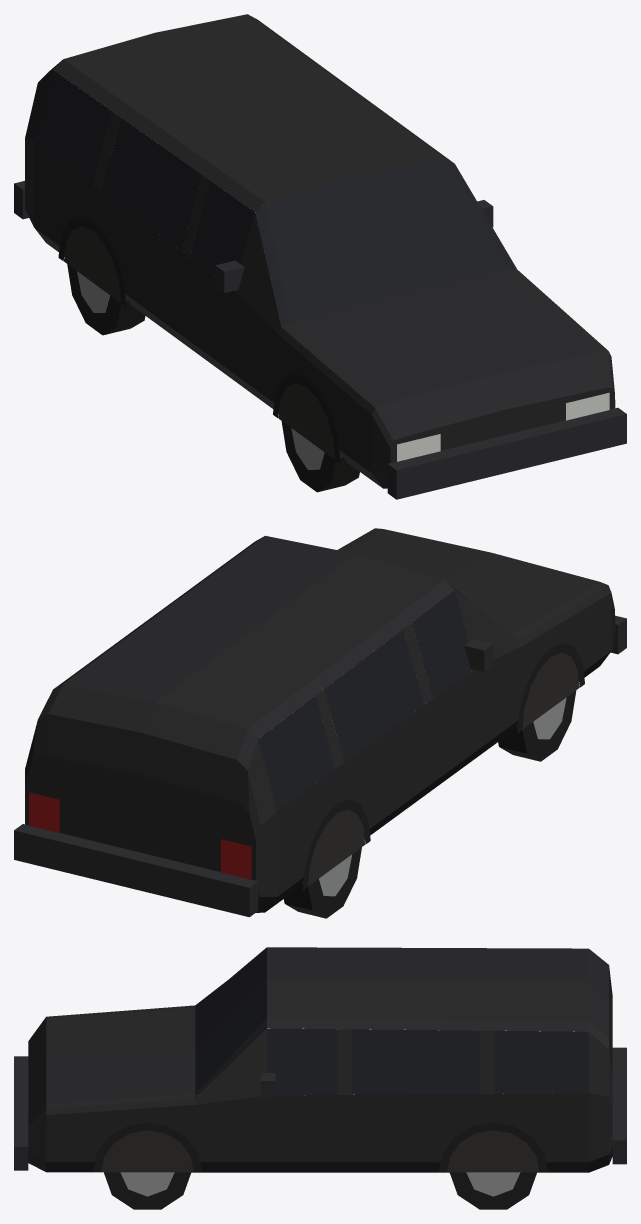
The model's file is town_suv_black 2.gltf.
3 views of the same model, one above another, from view 1: azimuth 30°, elevation 25°; view 2: azimuth 150°, elevation 25°; view 3: azimuth 270°, elevation 25° (orthographic). The views are drawn at different scales.
Visible parts, largest first — view 1: TownSuvBlack_Body, TownSuvBlack_Glass, TownSuvBlack_Bumpers, TownSuvBlack_Arches, TownSuvBlack_Tyres, TownSuvBlack_Headlights, TownSuvBlack_Rims, TownSuvBlack_Mirrors; view 2: TownSuvBlack_Body, TownSuvBlack_Glass, TownSuvBlack_Bumpers, TownSuvBlack_Arches, TownSuvBlack_Tyres, TownSuvBlack_Taillights, TownSuvBlack_Rims, TownSuvBlack_Mirrors; view 3: TownSuvBlack_Body, TownSuvBlack_Glass, TownSuvBlack_Arches, TownSuvBlack_Bumpers, TownSuvBlack_Tyres, TownSuvBlack_Rims, TownSuvBlack_Mirrors.
Part boxes in pixels (x1,y1,x2,y2): TownSuvBlack_Body: (25, 14, 615, 488); TownSuvBlack_Glass: (34, 70, 516, 326); TownSuvBlack_Bumpers: (14, 181, 626, 499); TownSuvBlack_Arches: (58, 216, 340, 463); TownSuvBlack_Tyres: (67, 264, 359, 492); TownSuvBlack_Headlights: (397, 392, 609, 461); TownSuvBlack_Rims: (77, 271, 324, 469); TownSuvBlack_Mirrors: (215, 200, 493, 293); TownSuvBlack_Body: (25, 528, 615, 912); TownSuvBlack_Glass: (258, 580, 473, 810); TownSuvBlack_Bumpers: (14, 615, 626, 917); TownSuvBlack_Arches: (302, 642, 584, 890); TownSuvBlack_Tyres: (283, 690, 576, 918); TownSuvBlack_Taillights: (29, 792, 251, 879); TownSuvBlack_Rims: (319, 697, 566, 896); TownSuvBlack_Mirrors: (464, 639, 493, 671); TownSuvBlack_Body: (28, 947, 612, 1172); TownSuvBlack_Glass: (195, 947, 588, 1097); TownSuvBlack_Arches: (93, 1122, 547, 1172); TownSuvBlack_Bumpers: (14, 1047, 626, 1170); TownSuvBlack_Tyres: (104, 1172, 536, 1209); TownSuvBlack_Rims: (120, 1172, 520, 1196); TownSuvBlack_Mirrors: (261, 1073, 275, 1098).
Size of what is drawn, in the model's own units: 2.1 by 1.69 by 5.14.
1 material, 1 textured.
